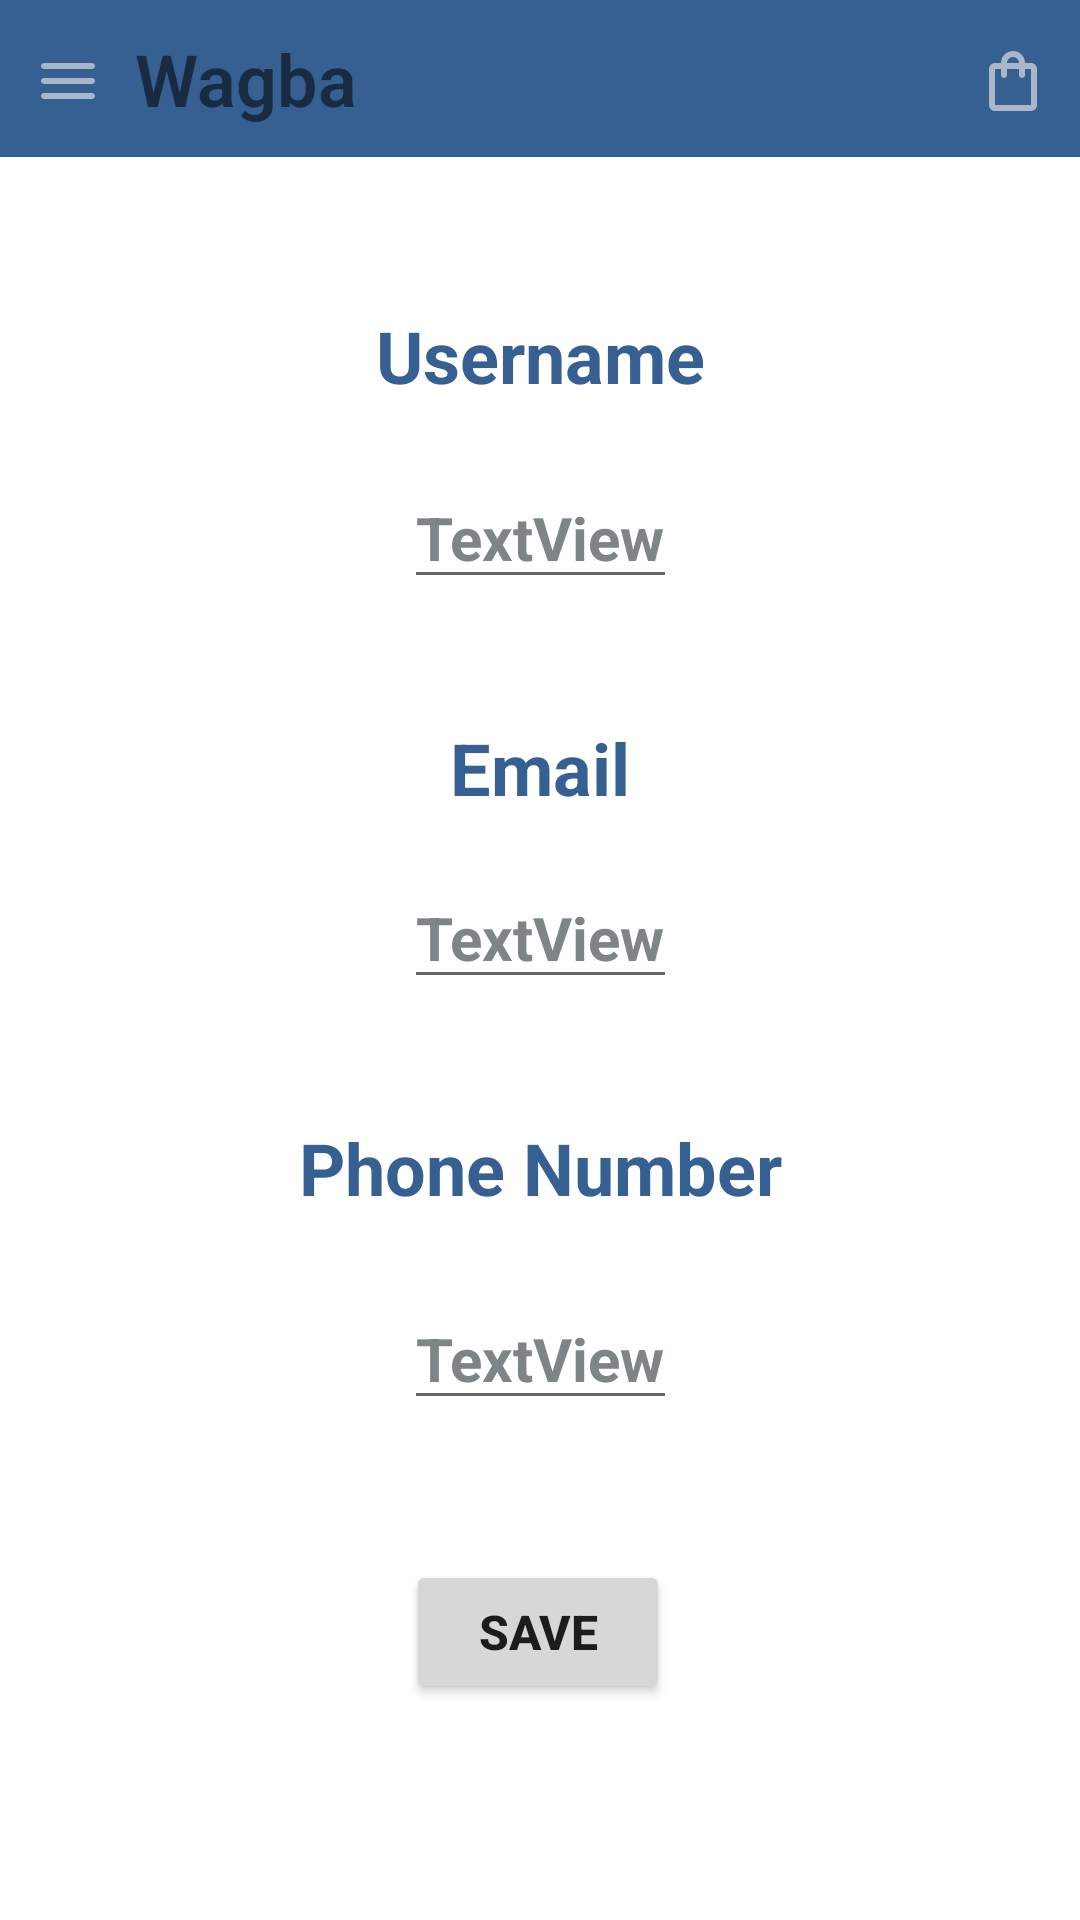

Icon click points for this 1080*1920 phone screenshot, format point (x, y):
menu: point (68, 81)
shopping bag: point (1013, 81)
